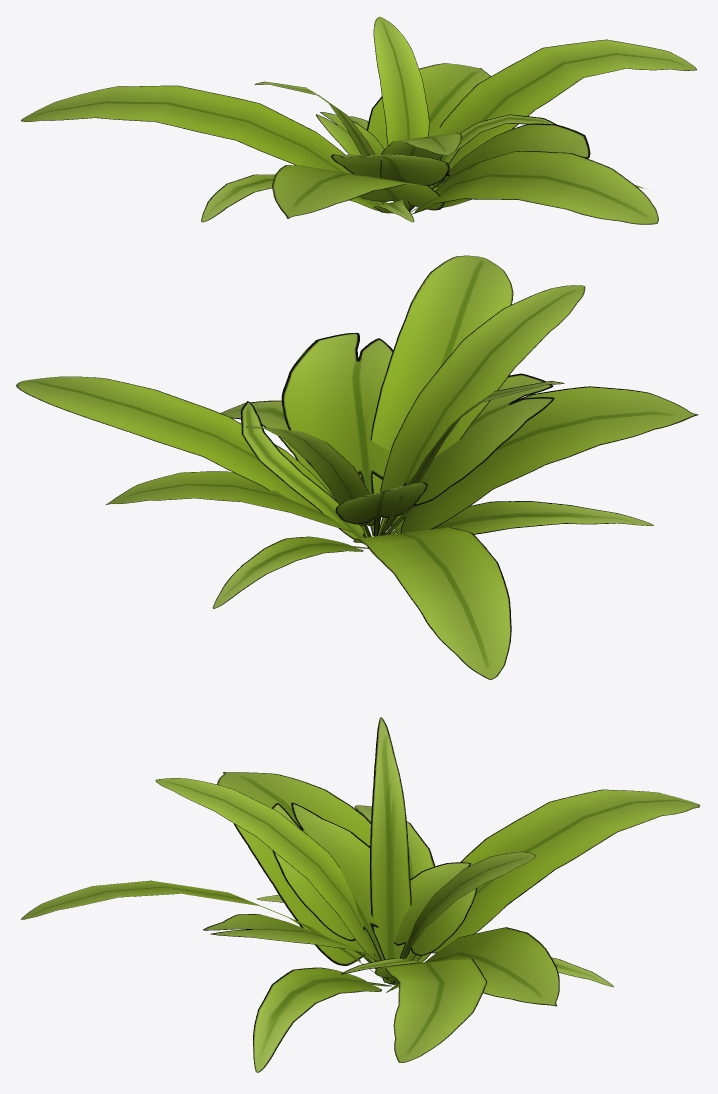
Rendered from Moonset_FBX_foliage_grand_04.fbx.
3 renders of one model, top to bottom at view 1: azimuth 30°, elevation 25°; view 2: azimuth 150°, elevation 25°; view 3: azimuth 270°, elevation 25°, orthographic. The views are drawn at different scales.
Visible parts, largest first — view 1: Foliage_grand_04; view 2: Foliage_grand_04; view 3: Foliage_grand_04.
Boxes of the visible parts, box(x1,y1,x2,y2) form: Foliage_grand_04: box(21, 17, 696, 224); Foliage_grand_04: box(16, 255, 698, 679); Foliage_grand_04: box(21, 717, 700, 1072).
Size of the model in its own units: 3.86 by 1.18 by 3.93.
